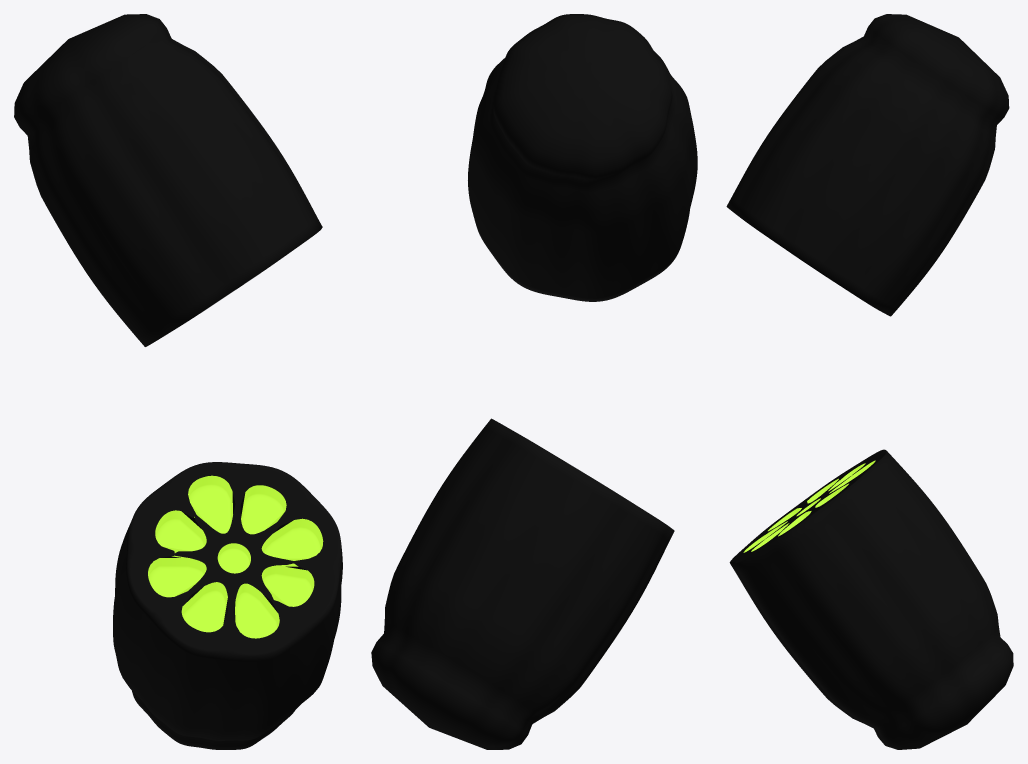
The picture shows the model from 3 angles, left to right: view 1: azimuth 30°, elevation 25°; view 2: azimuth 150°, elevation 25°; view 3: azimuth 270°, elevation 25°; orthographic projection. The views are drawn at different scales.
Visible parts, largest first — view 1: renkon_up, renkon_dn, hikari_dn; view 2: renkon_dn, renkon_up; view 3: renkon_up, renkon_dn, hikari_dn.
Part boxes in pixels (x1=…): renkon_up: x1=14, y1=14, x2=322, y2=346; renkon_dn: x1=113, y1=462, x2=342, y2=749; hikari_dn: x1=148, y1=475, x2=323, y2=638; renkon_dn: x1=371, y1=418, x2=674, y2=749; renkon_up: x1=468, y1=14, x2=697, y2=301; renkon_up: x1=726, y1=14, x2=1009, y2=316; renkon_dn: x1=729, y1=449, x2=1013, y2=749; hikari_dn: x1=743, y1=460, x2=875, y2=552.
Size of the model in its own units: 1.04 by 2.64 by 1.02.
